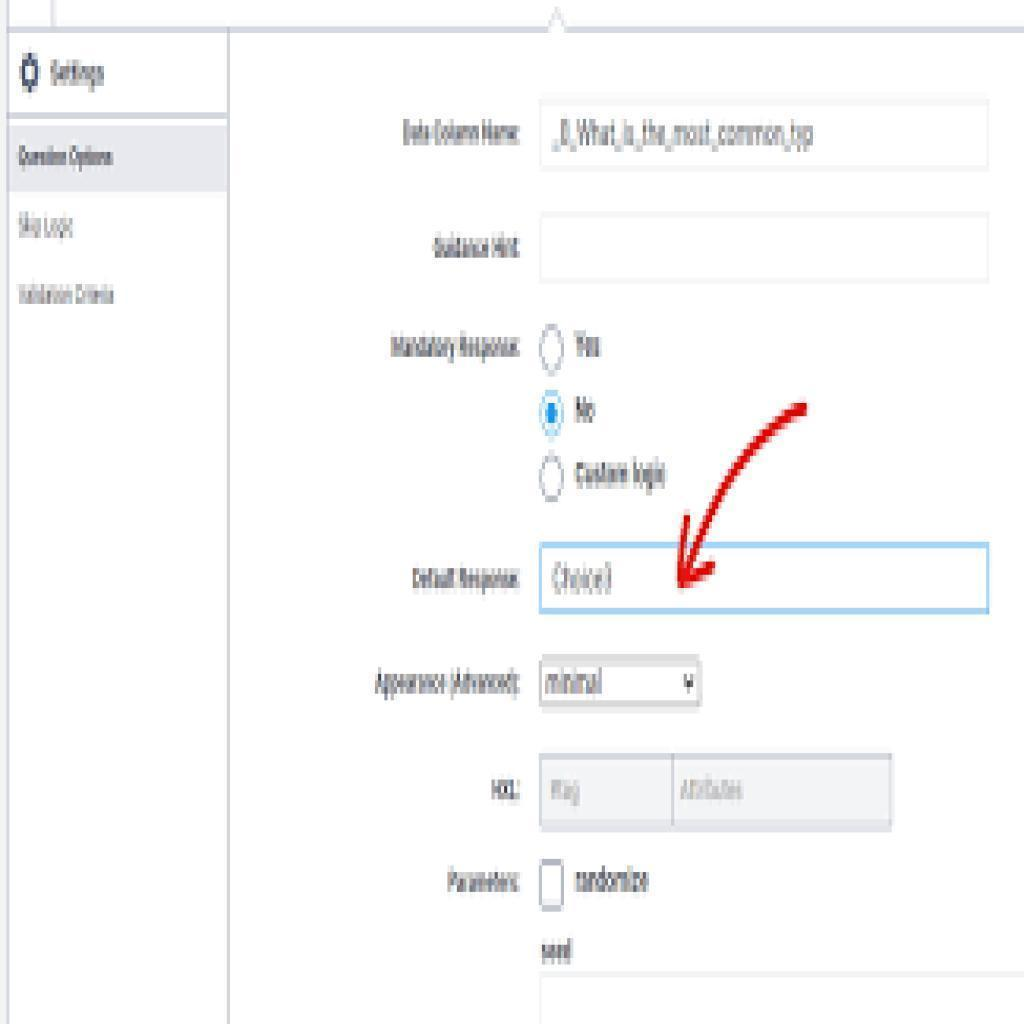checkbox: (539, 855, 564, 905)
dropdown: (536, 653, 704, 709)
input: (535, 101, 990, 171), (539, 212, 989, 281), (540, 544, 989, 608), (676, 756, 889, 830), (540, 756, 675, 830)
radio: (534, 381, 567, 450), (533, 312, 565, 382), (538, 439, 562, 520)
